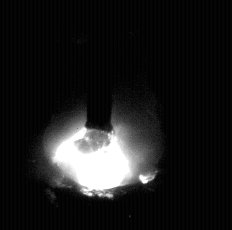arame: (88, 0, 113, 132)
poca: (41, 0, 165, 230)
